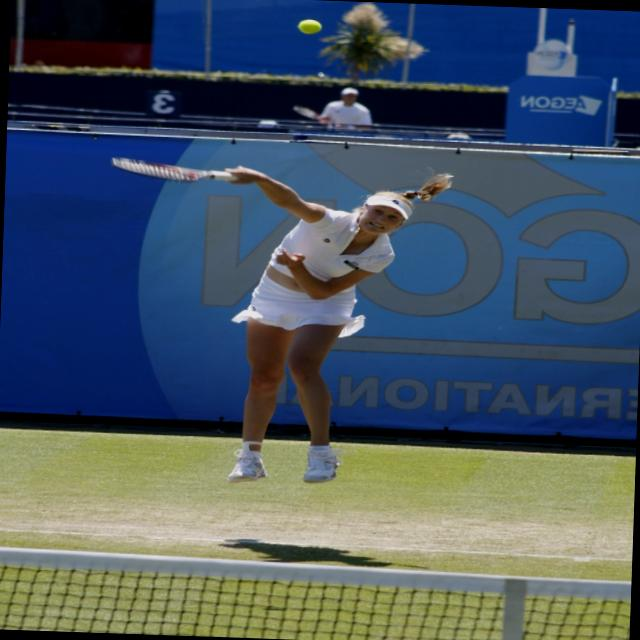Tennis Ball: (298, 19, 322, 32)
